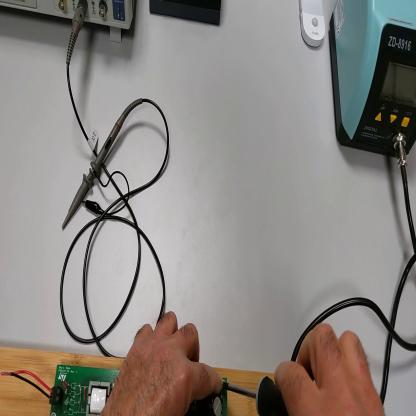hand: (105, 309, 222, 415), (274, 321, 386, 416)
high voltage board: (2, 363, 229, 416)
oscilloscope: (2, 2, 139, 40)
oscilloscope probe tip: (64, 108, 127, 231)
screwdriver-: (224, 376, 289, 416)
welder station: (329, 2, 415, 159)
working area: (2, 348, 277, 416)
